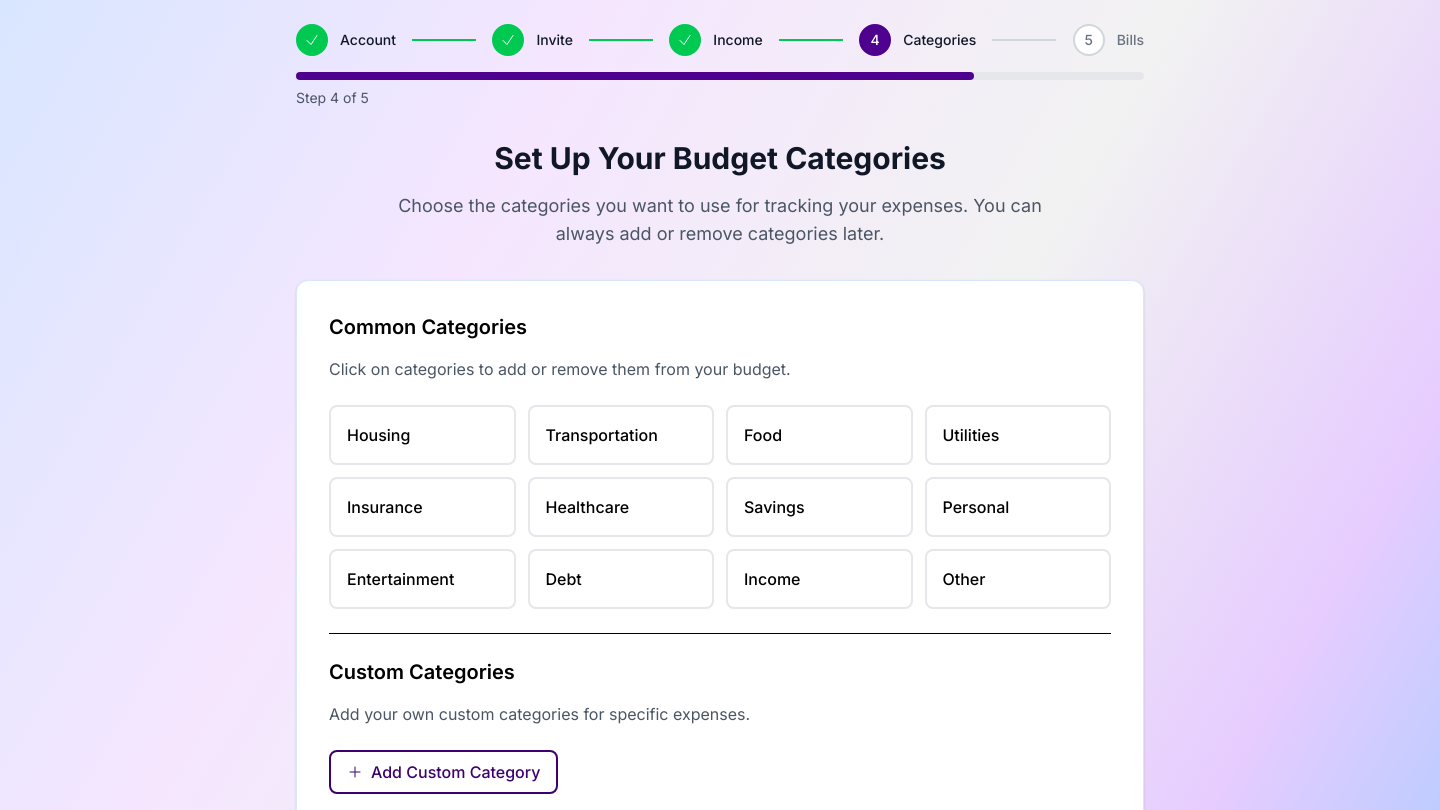
CategoriesOnboardingPage › Custom Categories › shows custom category form when add button is clicked
Click the button "Add Custom Category".
click(444, 772)  # box [329,750,558,794]
(page scrolled)
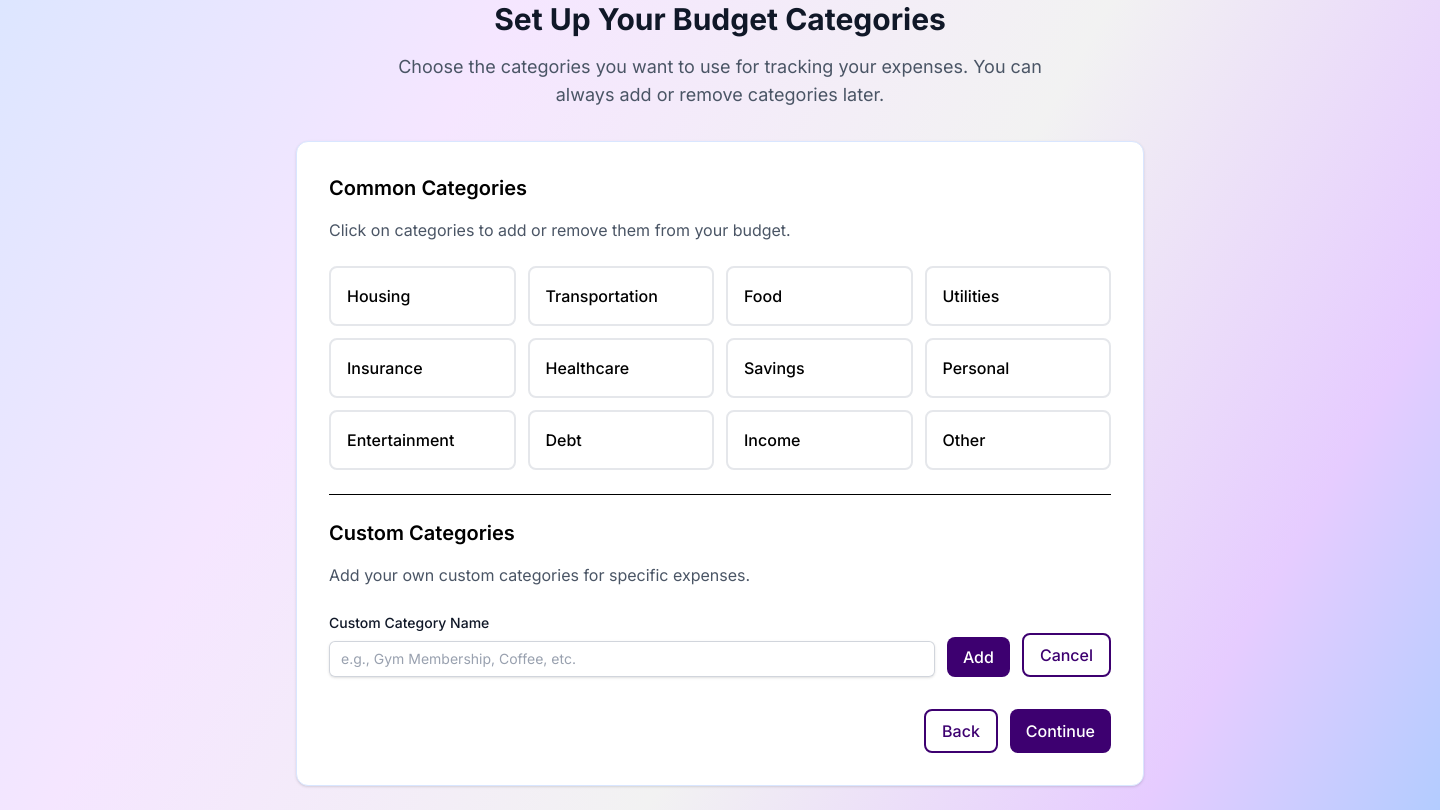
Check: the text "Custom Category Name" is shown, box [329,614,489,631]
Check: the field with placeholder "e.g., Gym Membership, Coffee, etc." is shown, box [329,641,935,677]
Check: the button "Cancel" is shown, box [1022,633,1111,677]
